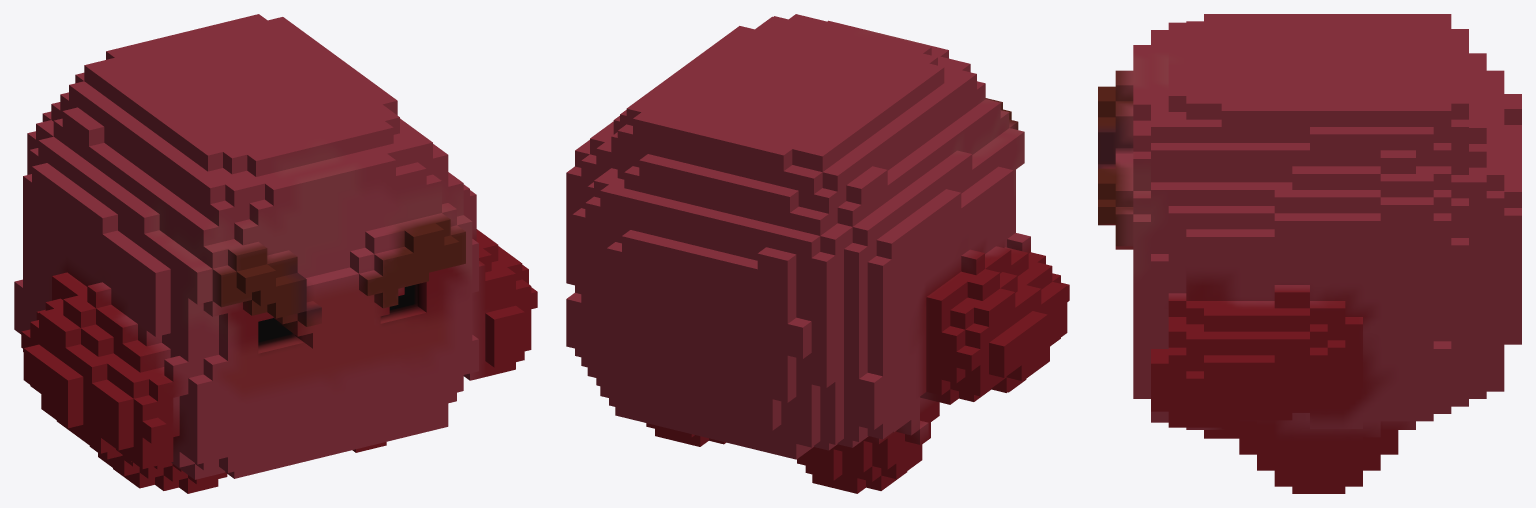
The model's file is enemy_base.glb.
The picture shows the model from 3 angles, left to right: view 1: azimuth 30°, elevation 25°; view 2: azimuth 150°, elevation 25°; view 3: azimuth 270°, elevation 25°; orthographic projection.
Parts seen in each view (by area): view 1: Cube; view 2: Cube; view 3: Cube.
Part boxes in pixels (left/top/right/bottom): Cube: left=14, top=14, right=537, bottom=493; Cube: left=566, top=14, right=1069, bottom=493; Cube: left=1098, top=14, right=1521, bottom=493.
Size of the model in its own units: 2.72 by 2.16 by 2.25.
Materials: 1 (1 with a texture image).
